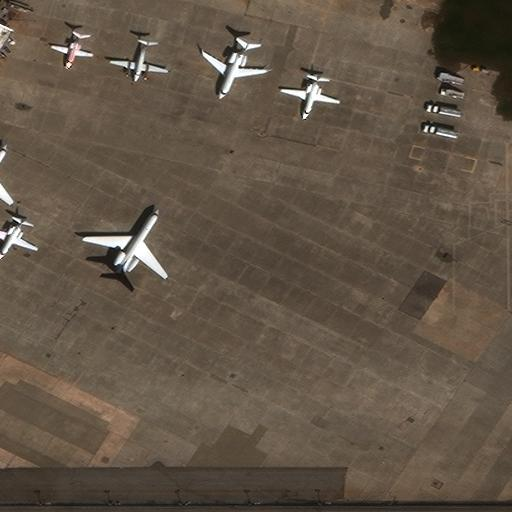Medium Civil Transport: (86, 208, 168, 281), (201, 42, 265, 99), (280, 73, 338, 119), (109, 40, 167, 82), (0, 217, 36, 259)
Small Civil Transport: (50, 33, 92, 69)
